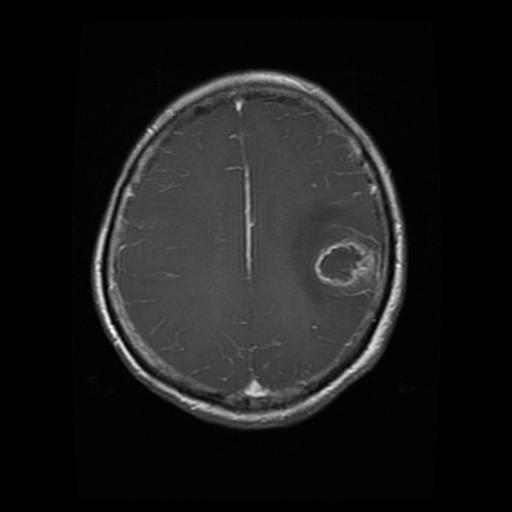Gliomia_tumour: (292, 202, 379, 302)
